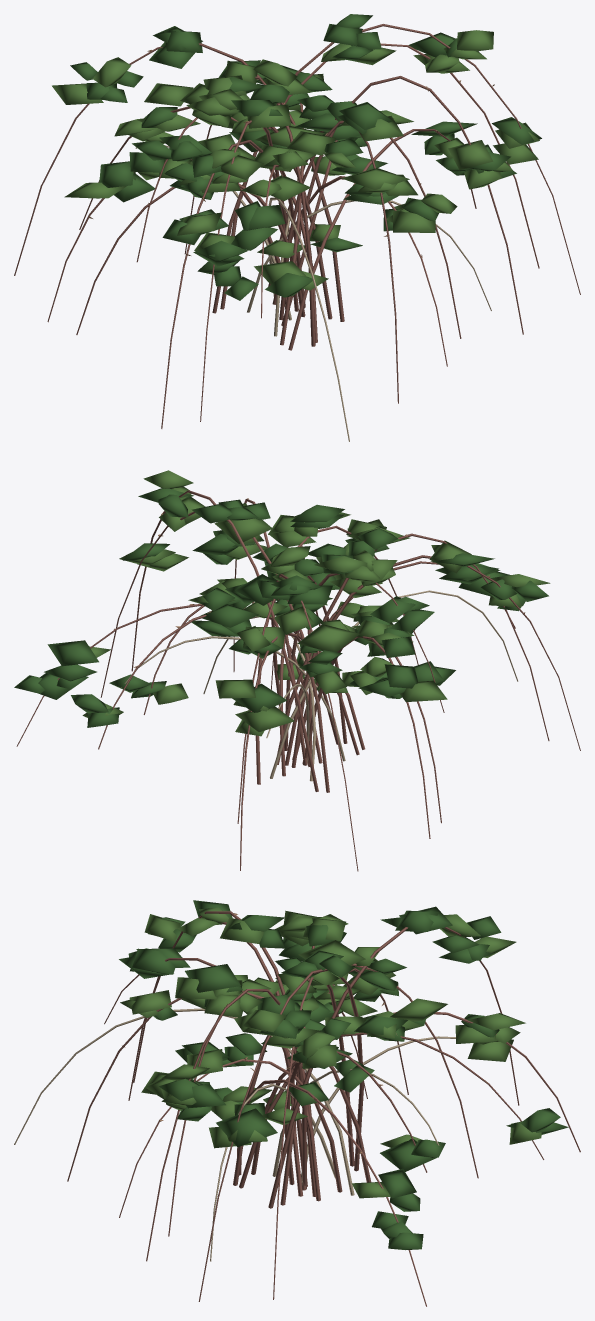
Rendered from thicket-bramble.glb.
3 views of the same model, one above another, from view 1: azimuth 30°, elevation 25°; view 2: azimuth 150°, elevation 25°; view 3: azimuth 270°, elevation 25° (orthographic). The views are drawn at different scales.
Visible parts, largest first — view 1: cane; view 2: cane; view 3: cane.
Part boxes in pixels (x1,y1,x2,y2): cane: (14, 14, 580, 441); cane: (14, 470, 580, 871); cane: (14, 900, 580, 1306).
Size of the model in its own units: 2.49 by 1.39 by 2.63.
